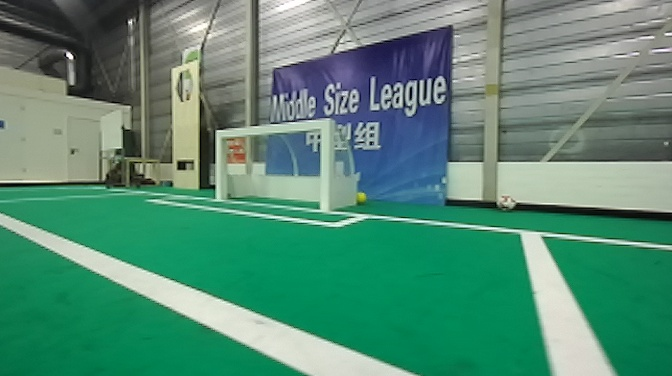ball: (489, 191, 514, 210), (354, 187, 373, 206)
goalpost: (311, 111, 340, 221), (209, 126, 233, 209)
